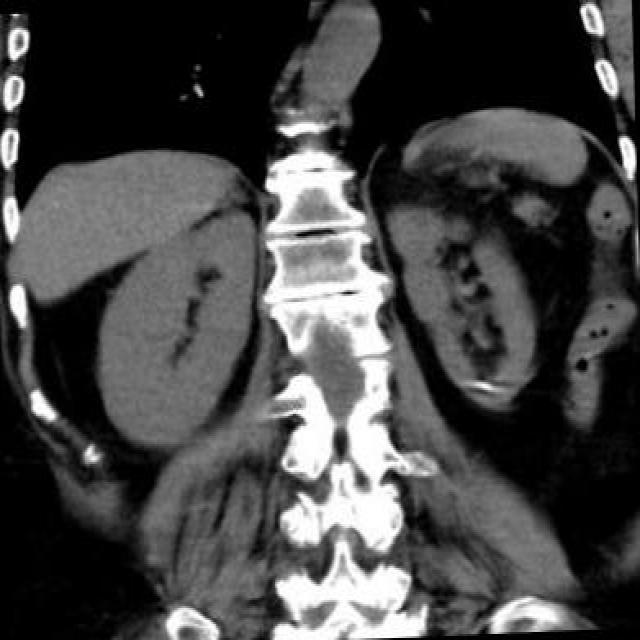Tas_Var: (470, 377, 492, 393)
